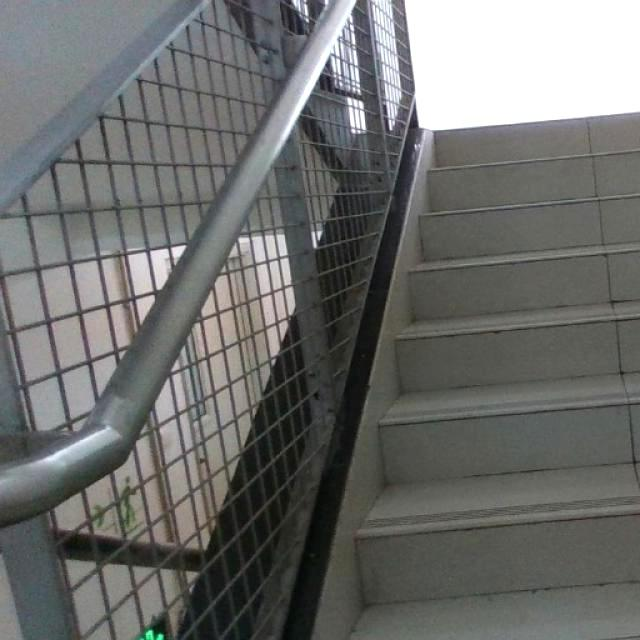stair: (418, 120, 640, 618)
